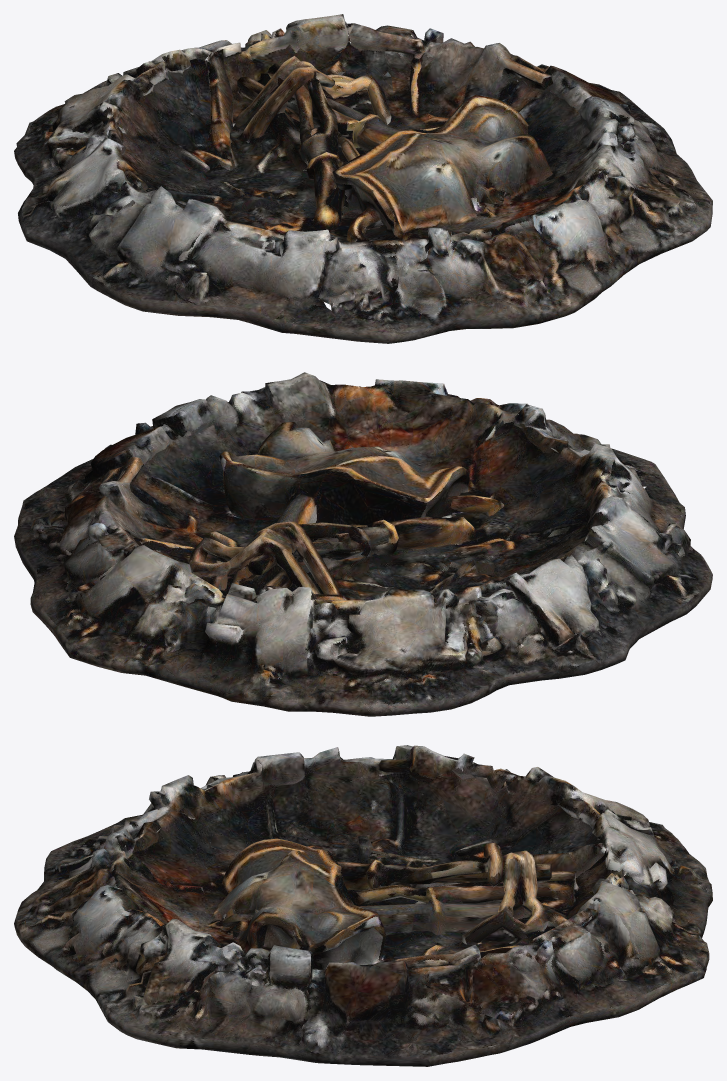
File: t5-crater-wreck.glb
The picture shows the model from 3 angles, top to bottom: view 1: azimuth 30°, elevation 25°; view 2: azimuth 150°, elevation 25°; view 3: azimuth 270°, elevation 25°; orthographic projection. The views are drawn at different scales.
Visible parts, largest first — view 1: t5-crater-wreck.glb; view 2: t5-crater-wreck.glb; view 3: t5-crater-wreck.glb.
Boxes of the visible parts, left/top/right/bottom form: t5-crater-wreck.glb: left=14, top=14, right=712, bottom=343; t5-crater-wreck.glb: left=14, top=372, right=712, bottom=716; t5-crater-wreck.glb: left=14, top=745, right=712, bottom=1066.
Size of the model in its own units: 0.9767 by 0.1324 by 1.
Materials: 1 (1 with a texture image).
